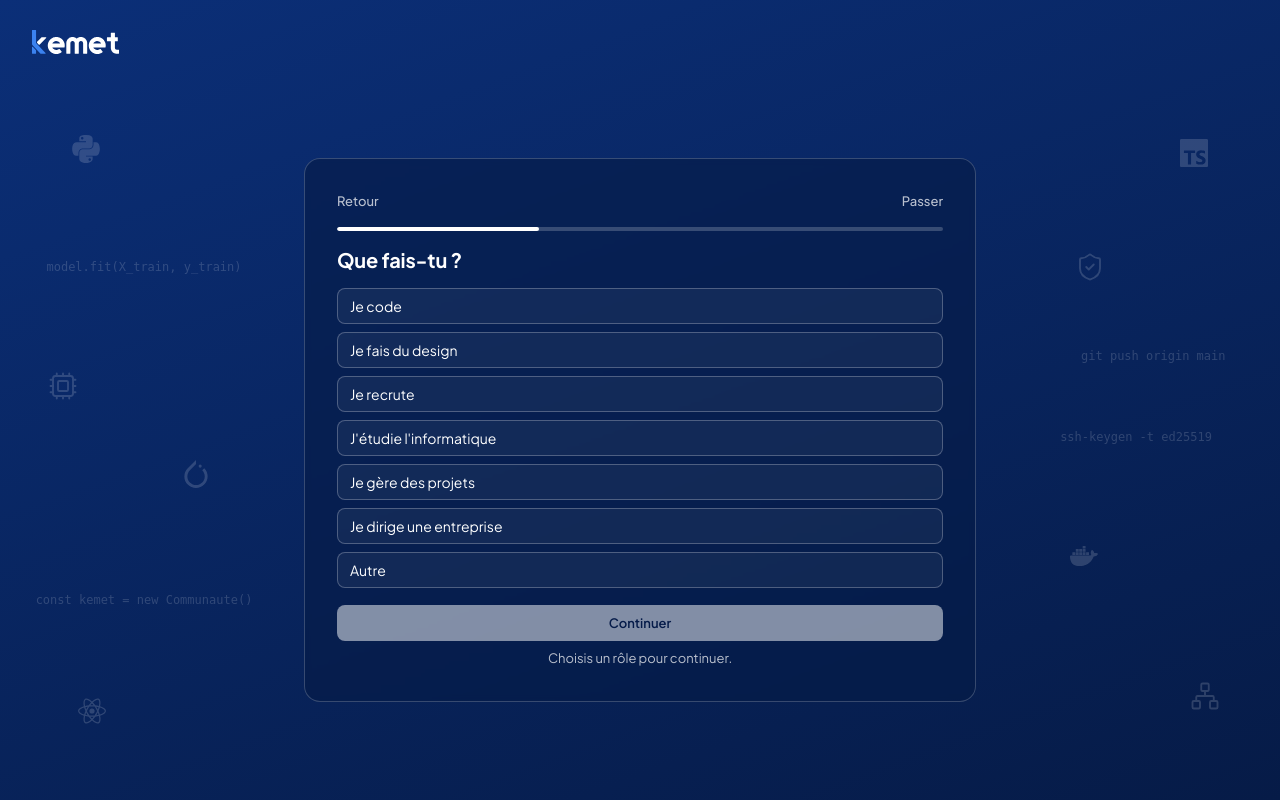
Scenario: OnboardingPage › ne demande jamais la spécialité à qui recrute ou dirige une entreprise
Click the radio button labelled "Je recrute".
click(640, 394)  # box [337,376,943,412]
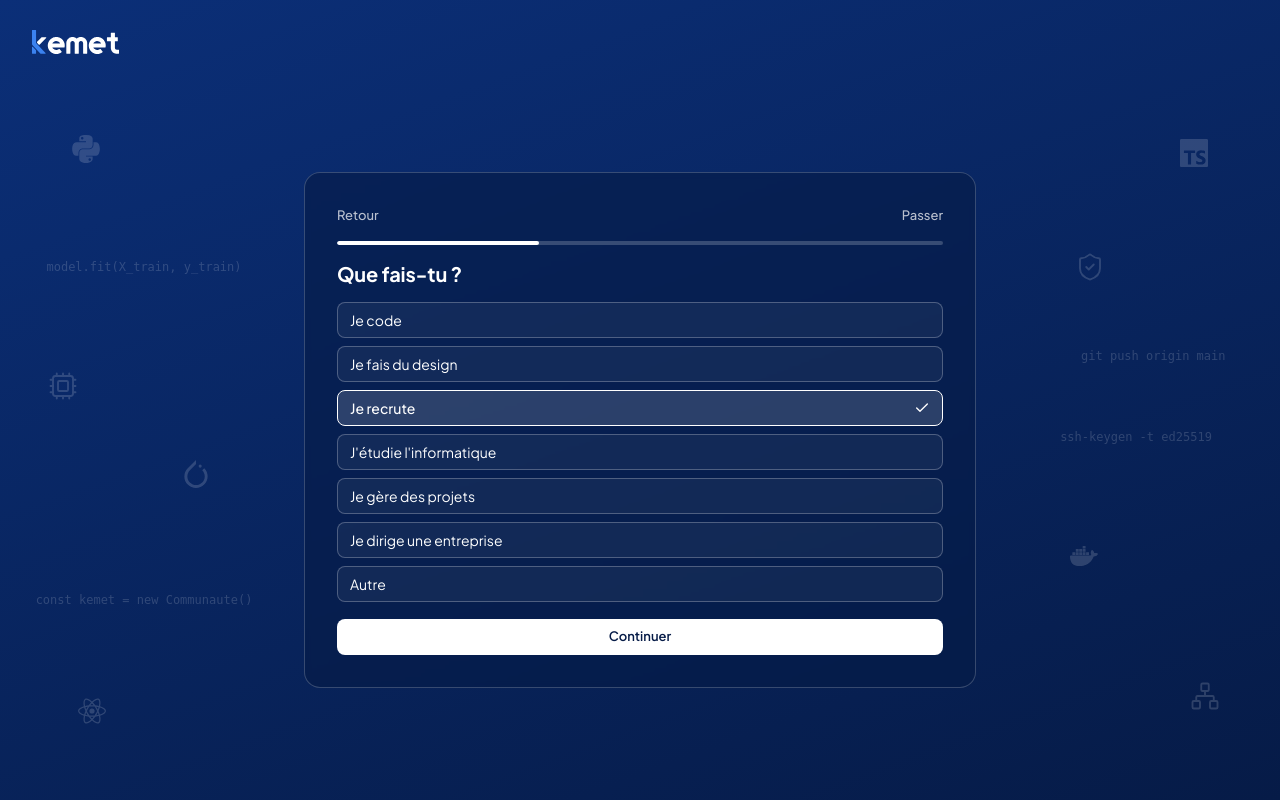
Click the button "Continuer".
click(640, 637)  # box [337,619,943,655]
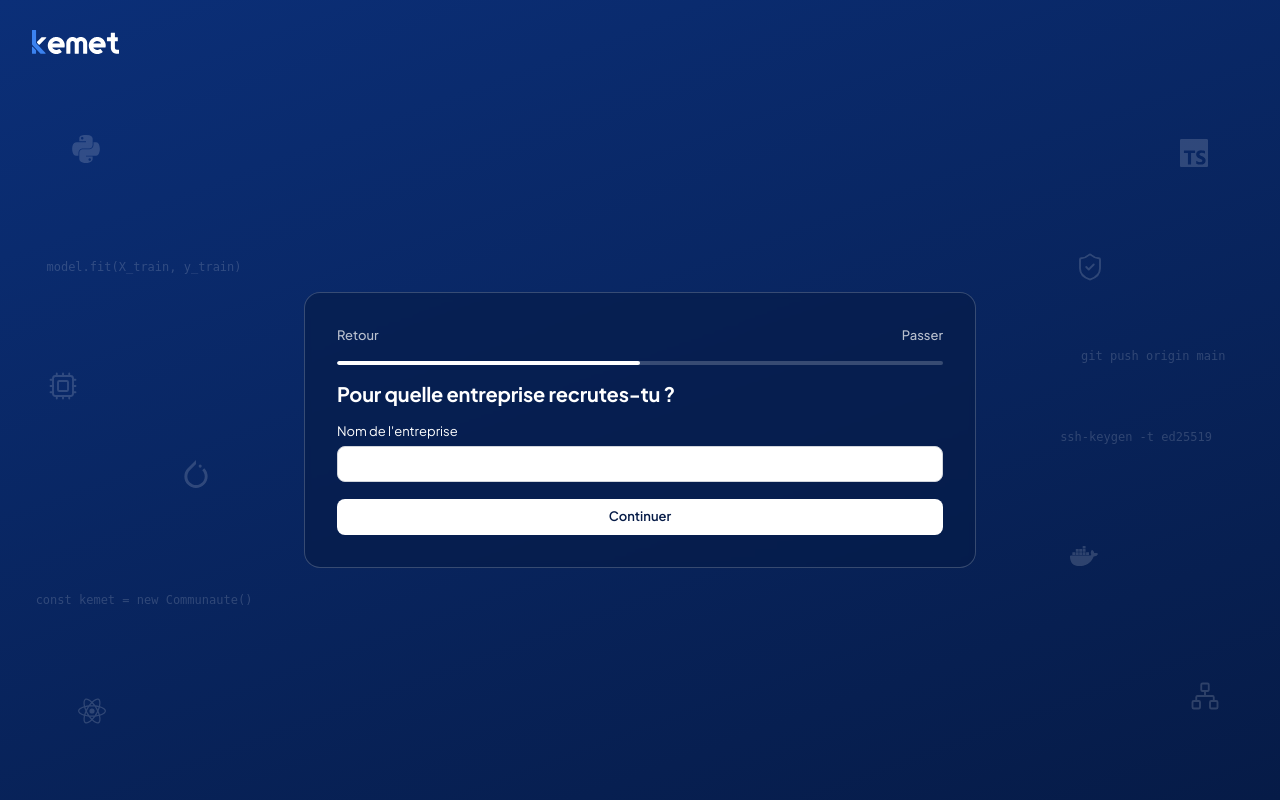
expect the heading "Pour quelle entreprise recrutes-tu ?" is shown: met, box [337,381,675,406]
Click the button "Passer".
click(922, 335)  # box [894,317,951,353]
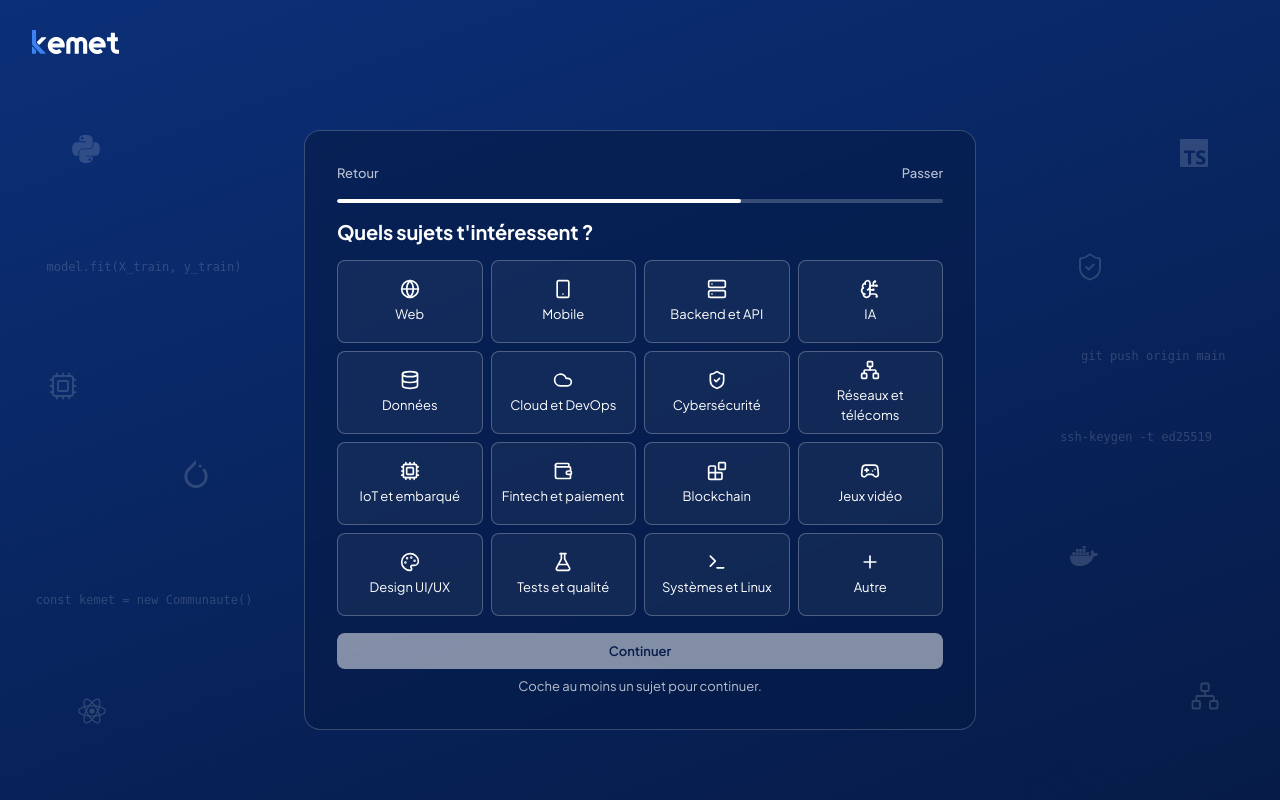
expect the heading "Quels sujets t'intéressent ?" is shown: met, box [337,219,593,244]
